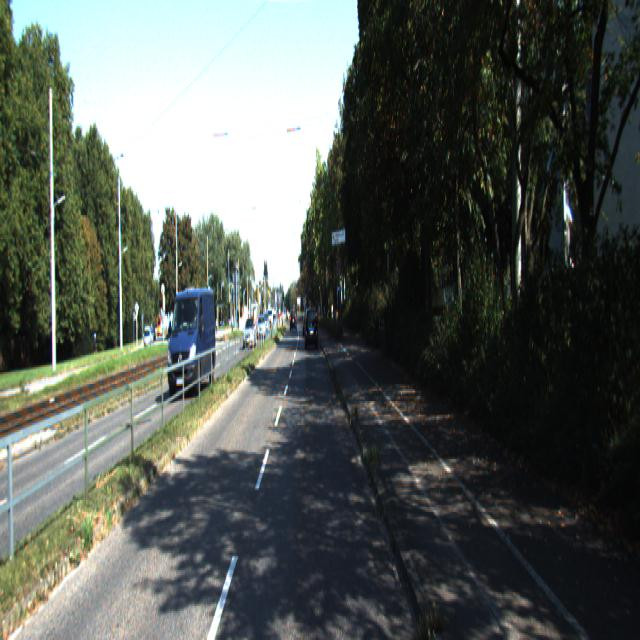Car: (168, 282, 216, 399), (306, 306, 319, 351), (243, 317, 257, 349)
